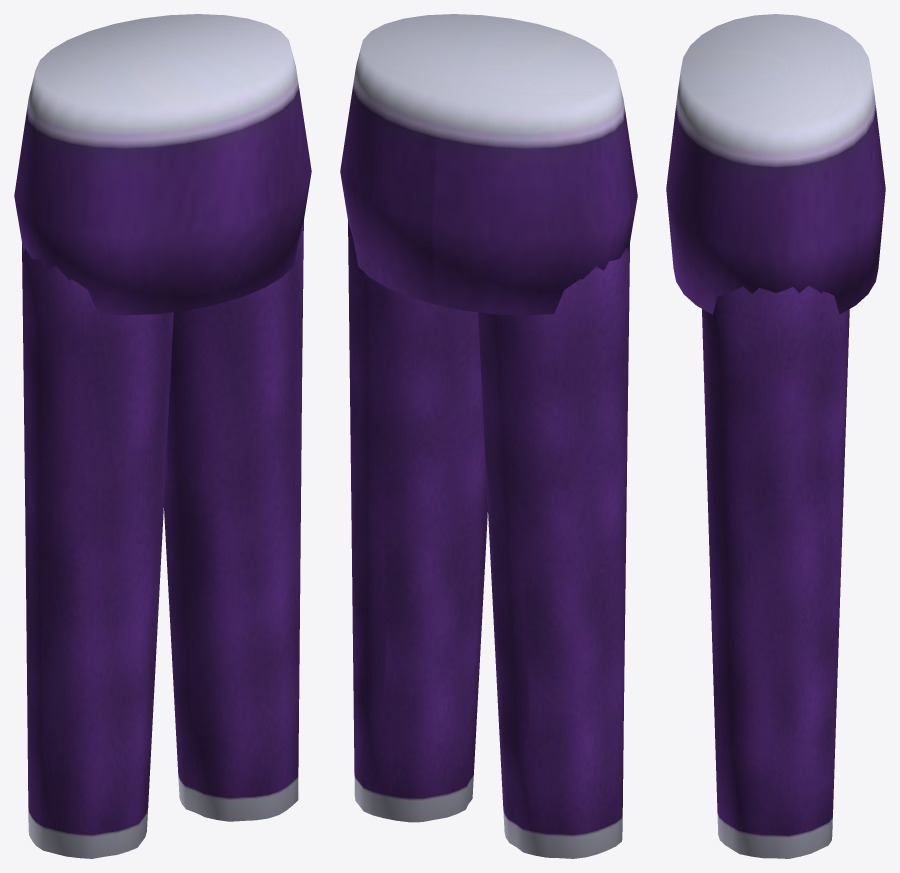
File: amethyst_pants_legs.glb
3 renders of one model, left to right at view 1: azimuth 30°, elevation 25°; view 2: azimuth 150°, elevation 25°; view 3: azimuth 270°, elevation 25°, orthographic. The views are drawn at different scales.
Visible parts, largest first — view 1: amethyst_pants_legs; view 2: amethyst_pants_legs; view 3: amethyst_pants_legs.
Part boxes in pixels (x1=…): amethyst_pants_legs: x1=14, y1=14, x2=311, y2=858; amethyst_pants_legs: x1=340, y1=14, x2=637, y2=858; amethyst_pants_legs: x1=666, y1=14, x2=885, y2=858.
Size of the model in its own units: 0.21 by 0.55 by 0.15.
Materials: 1 (1 with a texture image).
